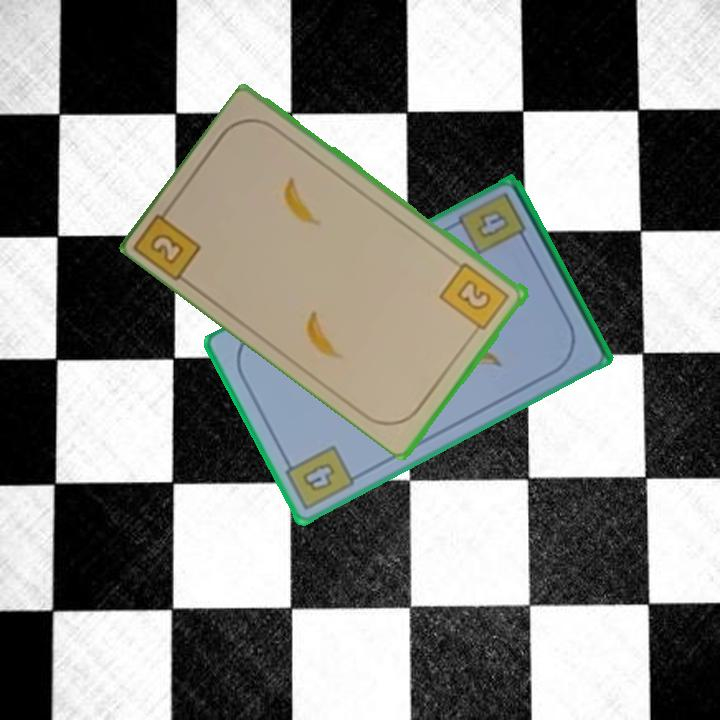2b: (437, 258, 513, 339), (134, 198, 205, 283)
4b: (279, 442, 357, 514), (473, 206, 513, 242)
